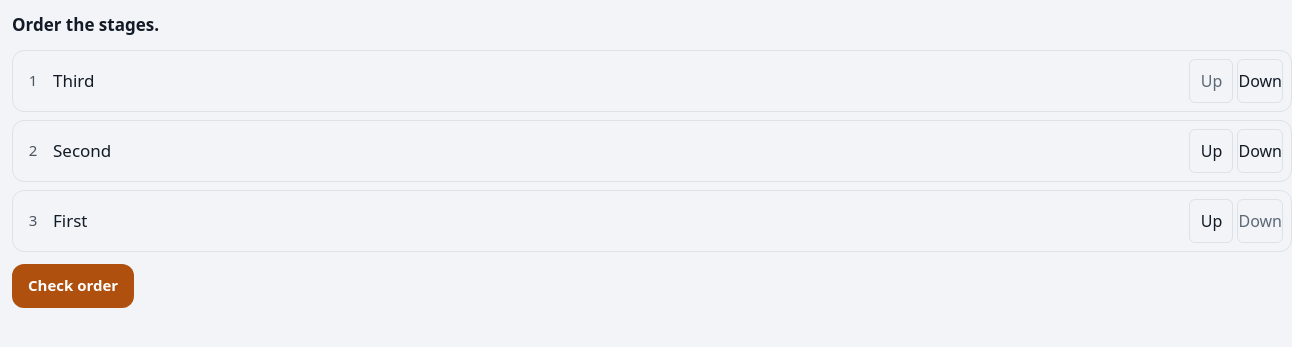
Scenario: order checkpoint › says which steps are in the wrong place
The width and height of the screenshot is (1292, 347).
Step 1. Click the button "Check order" → (73, 286), box [12,264,134,308]
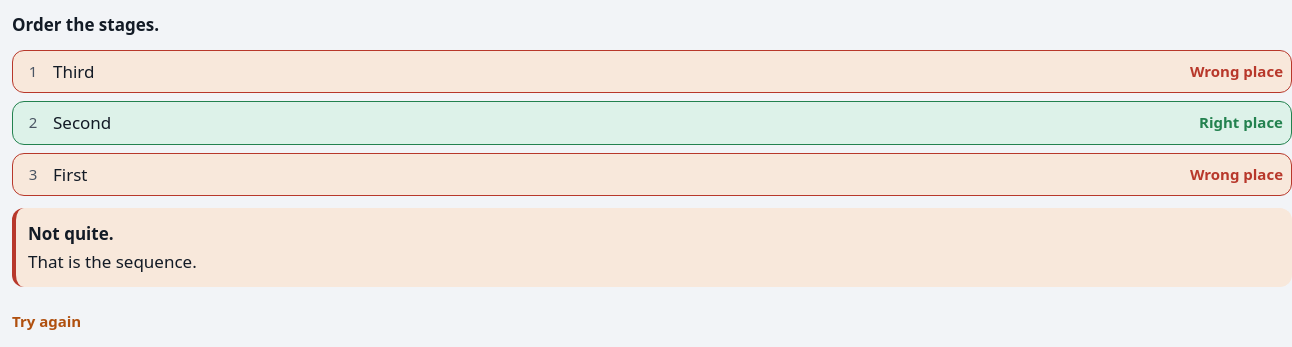
Expected: the text "Wrong place" in the row of "Third" is shown, [1190,60,1283,80]
Expected: the message shows "Not quite.", [28,222,114,245]
